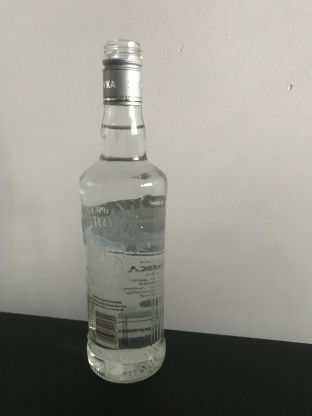nakretka: (100, 36, 145, 107)
